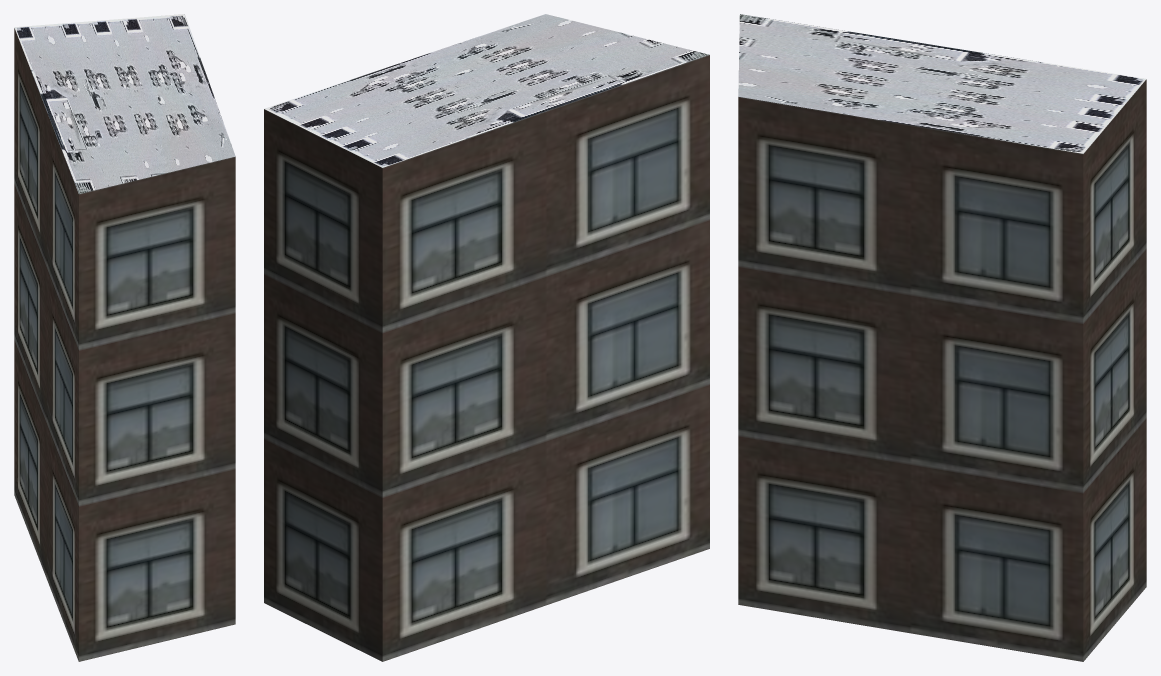
Rendered from ResTex__3521.fbx.
3 views of the same model, side by side, from view 1: azimuth 30°, elevation 25°; view 2: azimuth 150°, elevation 25°; view 3: azimuth 270°, elevation 25° (orthographic). The views are drawn at different scales.
Parts seen in each view (by area): view 1: CityEngineMaterial_16_m, CityEngineMaterial_15_m; view 2: CityEngineMaterial_16_m, CityEngineMaterial_15_m; view 3: CityEngineMaterial_16_m, CityEngineMaterial_15_m.
Part boxes in pixels (x1,y1,x2,y2): CityEngineMaterial_16_m: (14,28,235,661); CityEngineMaterial_15_m: (14,14,235,193); CityEngineMaterial_16_m: (264,55,709,661); CityEngineMaterial_15_m: (264,14,709,167); CityEngineMaterial_16_m: (738,79,1146,661); CityEngineMaterial_15_m: (738,14,1146,153).
Bounding box in the file's own units: 5.32 × 9 × 6.56.
2 materials, 2 textured.
